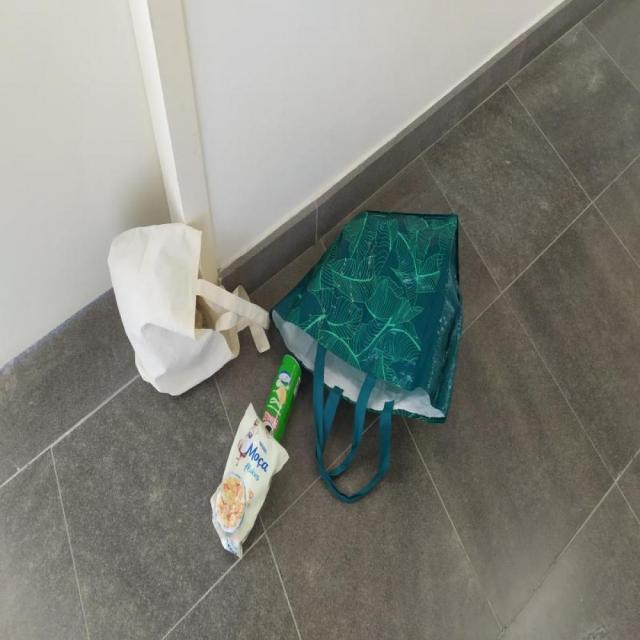Bag: (269, 210, 470, 506), (107, 224, 269, 401)
CornFlakes: (211, 402, 289, 564)
Pringles: (260, 353, 303, 444)
